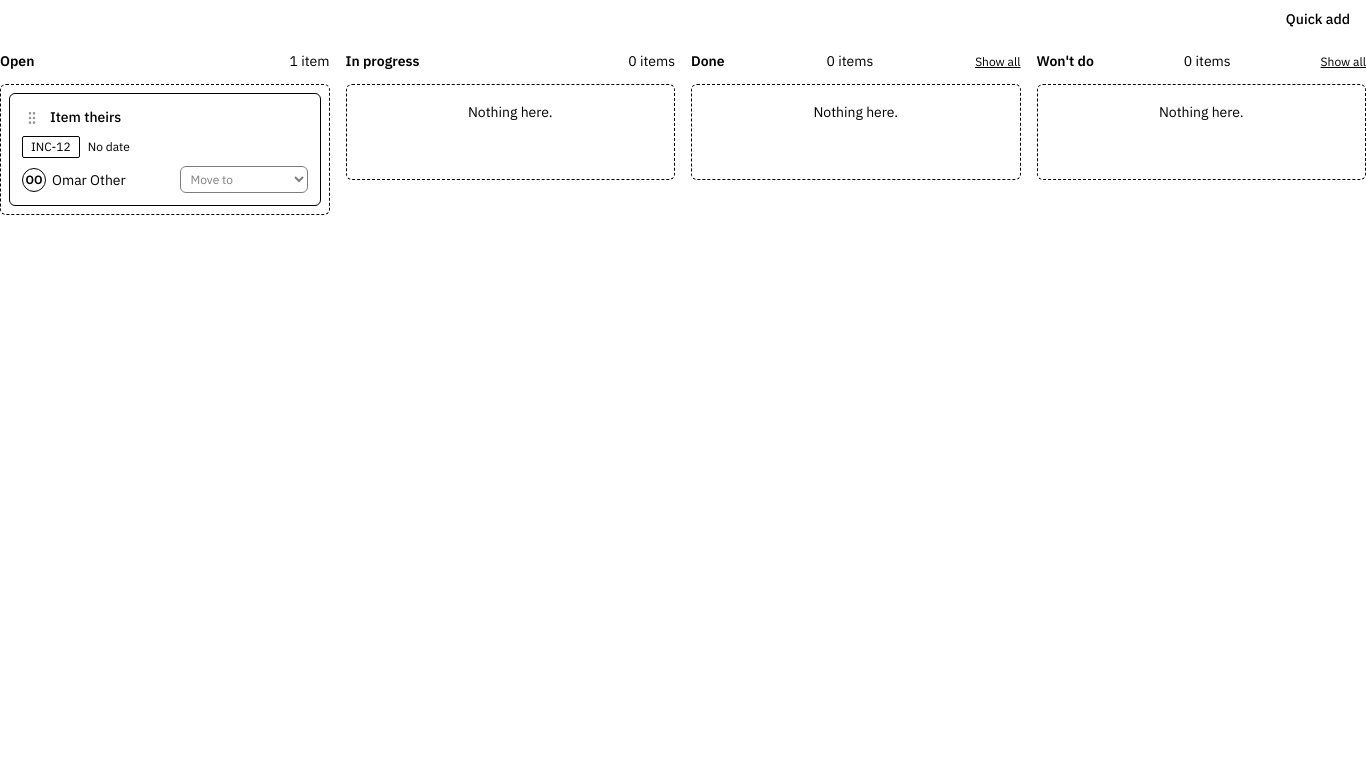
Test case: who can move what › opens the panel read-only for a card you can't change
Click the button "Item theirs".
click(179, 117)  # box [50, 106, 308, 128]
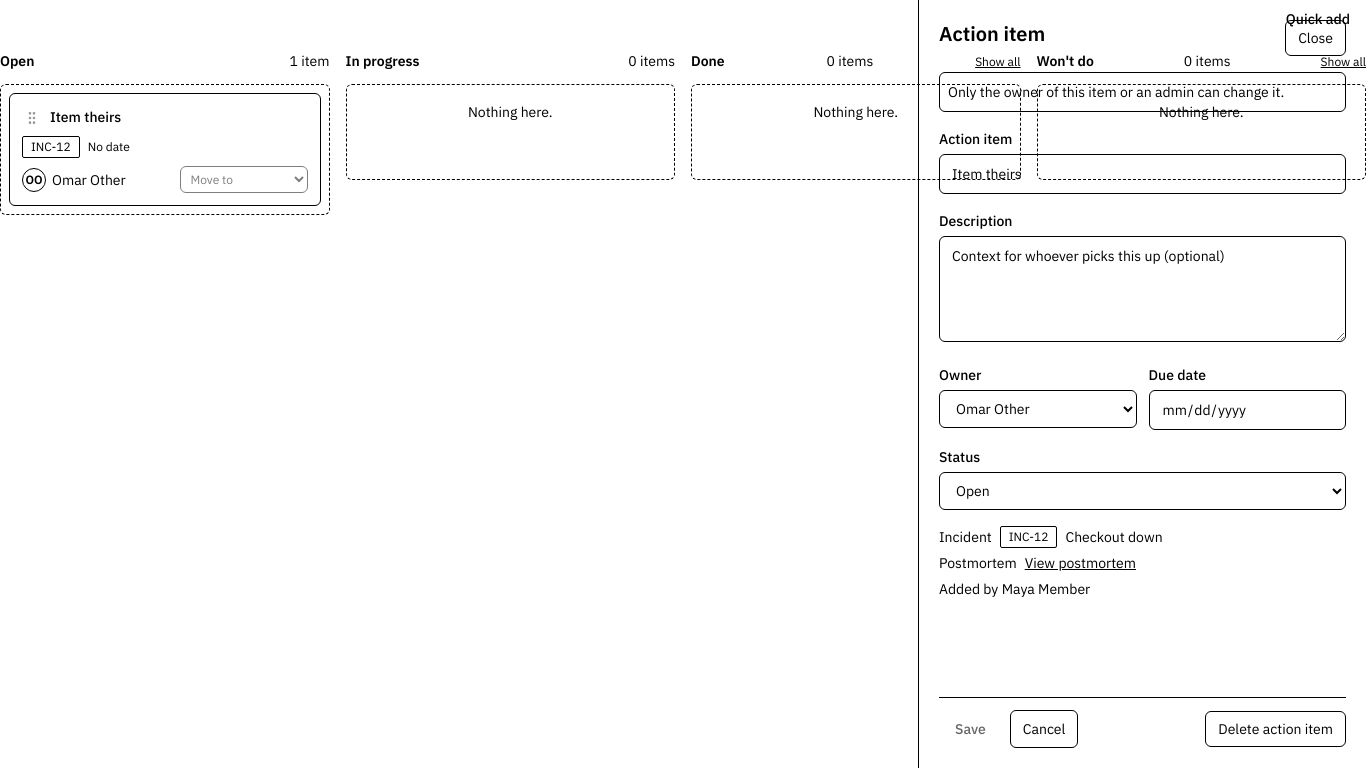
Now the text "Only the owner of this item or an admin can change it." is shown, box [939, 72, 1346, 112]
Now the field labelled "Action item" is disabled, box [939, 154, 1346, 194]
Now the button "Delete action item" is disabled, box [1205, 711, 1346, 747]
